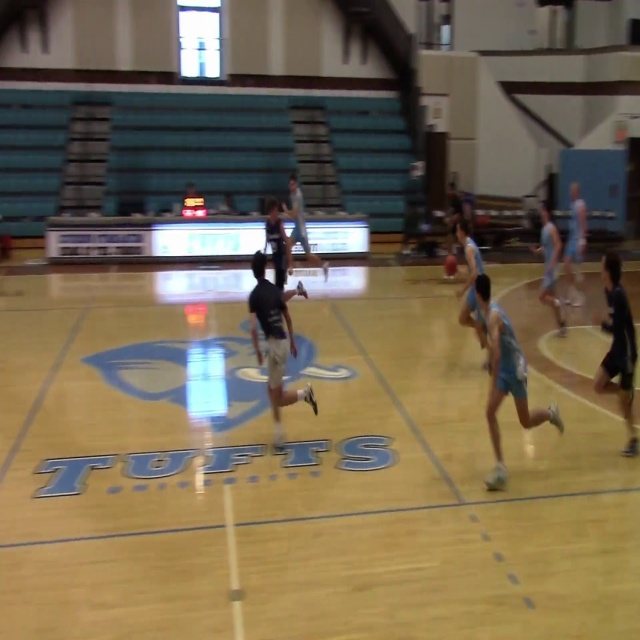Basketball: (444, 254, 458, 277)
